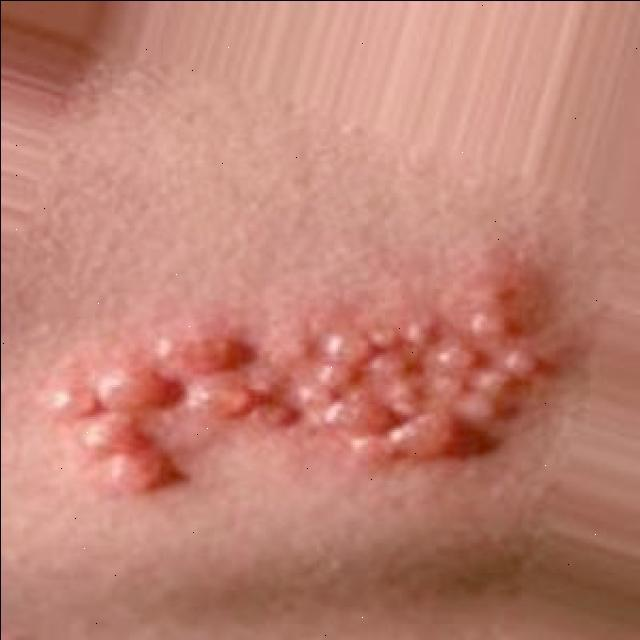Shingles: (46, 286, 548, 499)
